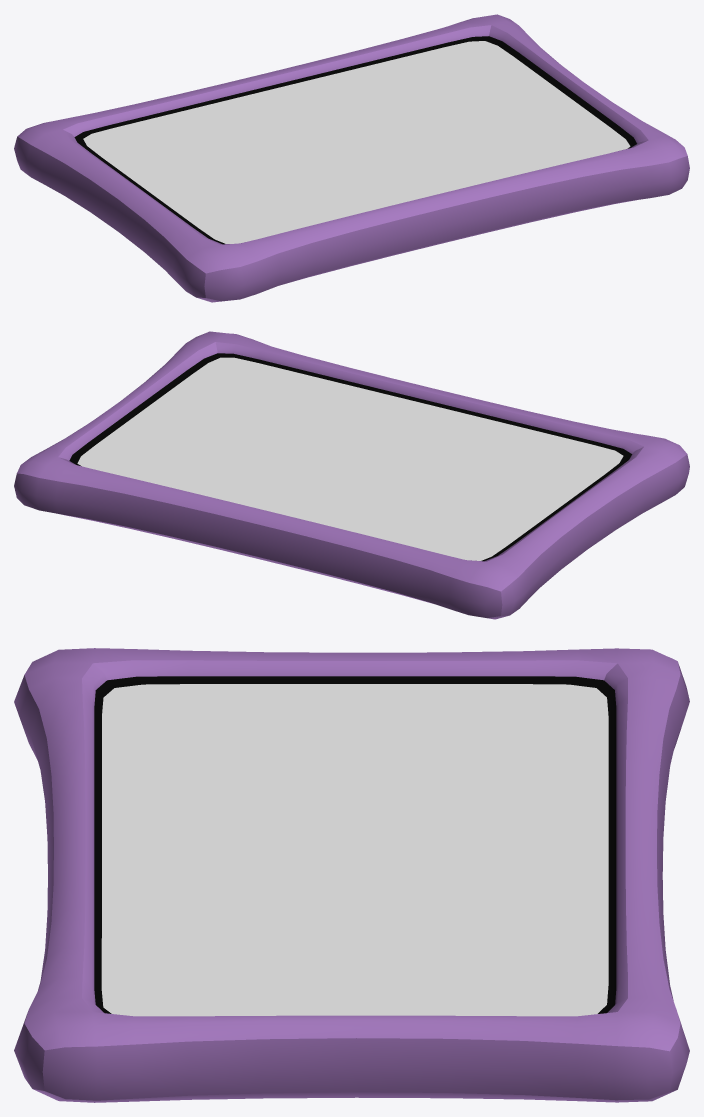
File: TabletUv.fbx
3 renders of one model, top to bottom at view 1: azimuth 30°, elevation 25°; view 2: azimuth 150°, elevation 25°; view 3: azimuth 270°, elevation 25°, orthographic. The views are drawn at different scales.
Visible parts, largest first — view 1: pPlane3; view 2: pPlane3; view 3: pPlane3.
Part boxes in pixels (box(x1,y1,x2,y2)): pPlane3: box(14, 14, 689, 302); pPlane3: box(14, 331, 689, 619); pPlane3: box(14, 648, 689, 1102).
Size of the model in its own units: 109 by 9.92 by 76.51.
